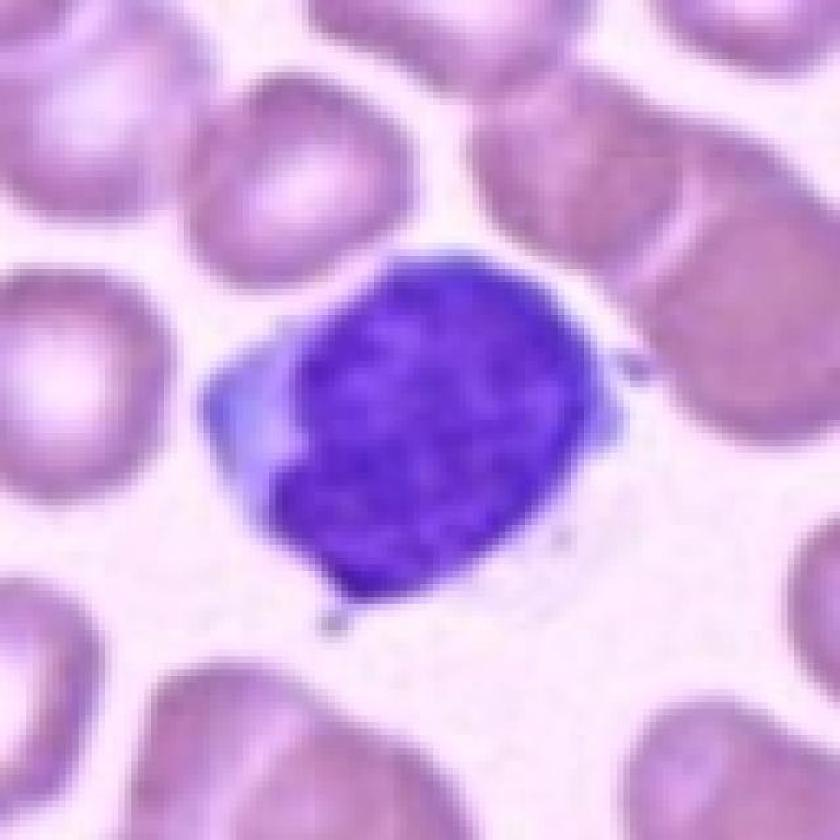lymphocyte: (182, 236, 648, 624)
